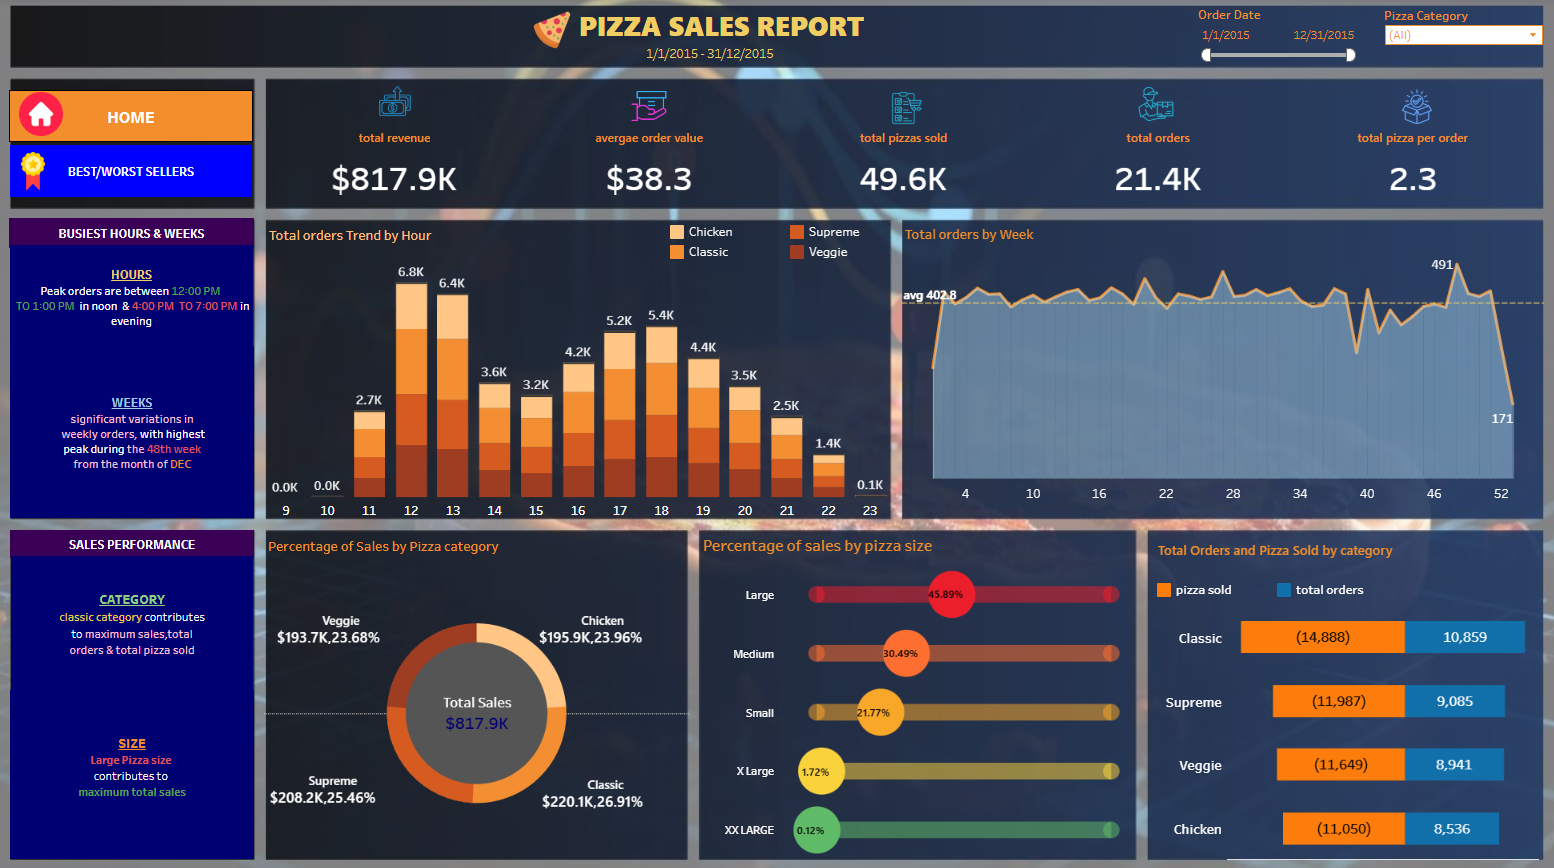

Layout of this report page (visuals, bound fields, positions):
{"tool":"tableau","page":{"name":"Dashboard 1","canvas":[1600,900],"ordinal":0},"visuals":[{"type":"image","param":"C:/Users/cooly/Downloads/Pizza Tableau 1.jpg","box":[8,8,1584,884]},{"type":"filter","title":"Sheet 8","param":"[federated.073wzmq1vhgcxp19hud1w1s00vo8].[none:order_date:qk]","box":[1221,21,160,61]},{"type":"filter","title":"Sheet 8","param":"[federated.073wzmq1vhgcxp19hud1w1s00vo8].[none:pizza_category:nk]","box":[1407,22,160,59]},{"type":"text","box":[602,25,355,32]},{"type":"image","param":"C:/Users/cooly/Downloads/Pizza Sales Images/pizza-slice.png","box":[552,27,45,38]},{"type":"text","box":[669,54,166,30]},{"type":"image","param":"C:/Users/cooly/Downloads/Pizza Sales Images/profit-growth.png","box":[391,99,53,36]},{"type":"image","param":"C:/Users/cooly/Downloads/Pizza Sales Images/shipping-box.png","box":[648,102,48,40]},{"type":"image","param":"C:/Users/cooly/Downloads/Pizza Sales Images/delivery-man.png","box":[1159,102,40,36]},{"type":"image","param":"C:/Users/cooly/Downloads/Pizza Sales Images/order-delivery.png","box":[913,104,33,39]},{"type":"image","param":"C:/Users/cooly/Downloads/Pizza Sales Images/order (1).png","box":[1416,105,47,35]},{"type":"dashboard-object","box":[32,106,244,52]},{"type":"image","param":"C:/Users/cooly/Downloads/Pizza Sales Images/home (1).png","box":[39,108,49,44]},{"type":"worksheet","title":"KPI BANNER","mark":"Automatic","box":[290,143,1273,80]},{"type":"dashboard-object","box":[33,161,242,52]},{"type":"image","param":"C:/Users/cooly/Downloads/Pizza Sales Images/choice.png","box":[37,164,38,46]},{"type":"worksheet","title":"Sheet 8","mark":"Automatic","box":[618,224,533,300]},{"type":"text","box":[32,234,245,30]},{"type":"worksheet","title":"Sheet 4","mark":"Area","rows":["Calculation_2122602827926884354","Calculation_2122602827926884354"],"cols":["order_date"],"box":[924,234,643,300]},{"type":"worksheet","title":"Sheet 3","mark":"Bar","rows":["Calculation_2122602827927527428","Calculation_2122602827927527428"],"cols":["order_time"],"box":[288,235,626,300]},{"type":"legend","title":"Sheet 3","param":"[federated.073wzmq1vhgcxp19hud1w1s00vo8].[none:pizza_category:nk]","box":[690,238,251,52]},{"type":"text","box":[33,261,243,101]},{"type":"text","box":[33,362,244,172]},{"type":"worksheet","title":"Sheet 6","mark":"Line","rows":["pizza_size"],"box":[722,544,436,331]},{"type":"text","box":[33,546,244,28]},{"type":"worksheet","title":"Sheet 5","mark":"Pie","rows":["Calculation_2735373852505800705","Calculation_2735373852505833475"],"box":[287,546,425,332]},{"type":"text","box":[1181,550,373,30]},{"type":"text","box":[34,572,242,134]},{"type":"legend","title":"Sheet 7","param":"[federated.073wzmq1vhgcxp19hud1w1s00vo8].[:Measure Names]","box":[1177,577,313,43]},{"type":"worksheet","title":"Sheet 7","mark":"Bar","rows":["pizza_category"],"box":[1170,621,392,255]},{"type":"text","box":[33,706,244,169]}]}

Visuals, with their boxes in screenshot pixels (x1, y1, x2, y2), scaled from the page's 1600x900 canvas onto the 1554x868 screenshot:
image: <region>8, 8, 1546, 860</region>
"Sheet 8" filter: <region>1186, 20, 1341, 79</region>
"Sheet 8" filter: <region>1367, 21, 1522, 78</region>
text: <region>585, 24, 929, 55</region>
image: <region>536, 26, 580, 63</region>
text: <region>650, 52, 811, 81</region>
image: <region>380, 95, 431, 130</region>
image: <region>629, 98, 676, 137</region>
image: <region>1126, 98, 1165, 133</region>
image: <region>887, 100, 919, 138</region>
image: <region>1375, 101, 1421, 135</region>
dashboard-object: <region>31, 102, 268, 152</region>
image: <region>38, 104, 85, 147</region>
"KPI BANNER" worksheet: <region>282, 138, 1518, 215</region>
dashboard-object: <region>32, 155, 267, 205</region>
image: <region>36, 158, 73, 203</region>
"Sheet 8" worksheet: <region>600, 216, 1118, 505</region>
text: <region>31, 226, 269, 255</region>
"Sheet 4" worksheet (Area marks): <region>897, 226, 1522, 515</region>
"Sheet 3" worksheet (Bar marks): <region>280, 227, 888, 516</region>
"Sheet 3" legend: <region>670, 230, 914, 280</region>
text: <region>32, 252, 268, 349</region>
text: <region>32, 349, 269, 515</region>
"Sheet 6" worksheet (Line marks): <region>701, 525, 1125, 844</region>
text: <region>32, 527, 269, 554</region>
"Sheet 5" worksheet (Pie marks): <region>279, 527, 692, 847</region>
text: <region>1147, 530, 1509, 559</region>
text: <region>33, 552, 268, 681</region>
"Sheet 7" legend: <region>1143, 556, 1447, 598</region>
"Sheet 7" worksheet (Bar marks): <region>1136, 599, 1517, 845</region>
text: <region>32, 681, 269, 844</region>
